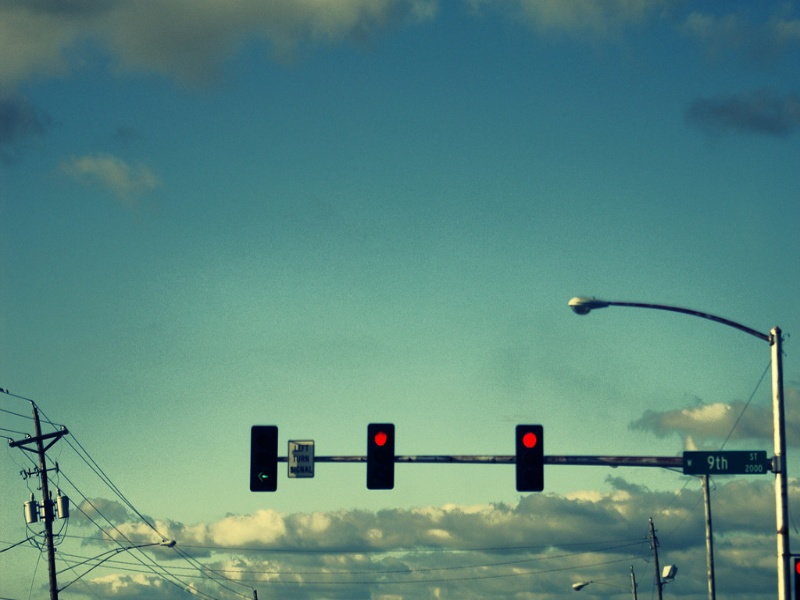red_light: (365, 419, 398, 449), (517, 426, 544, 451)
